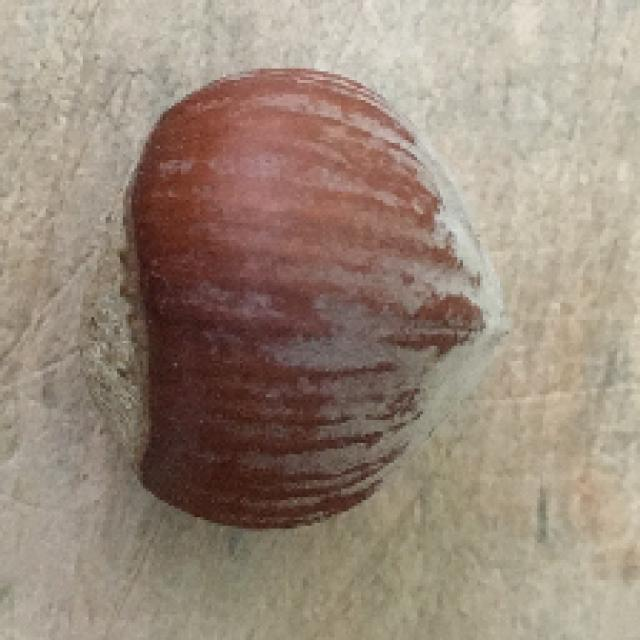QualityHazelnut: (77, 63, 509, 533)
